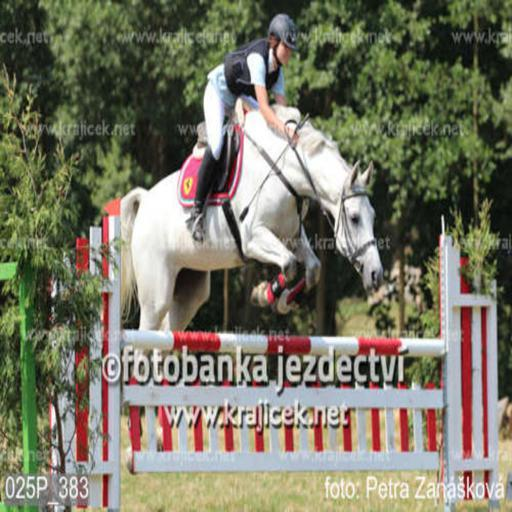Horse: (113, 103, 383, 472)
